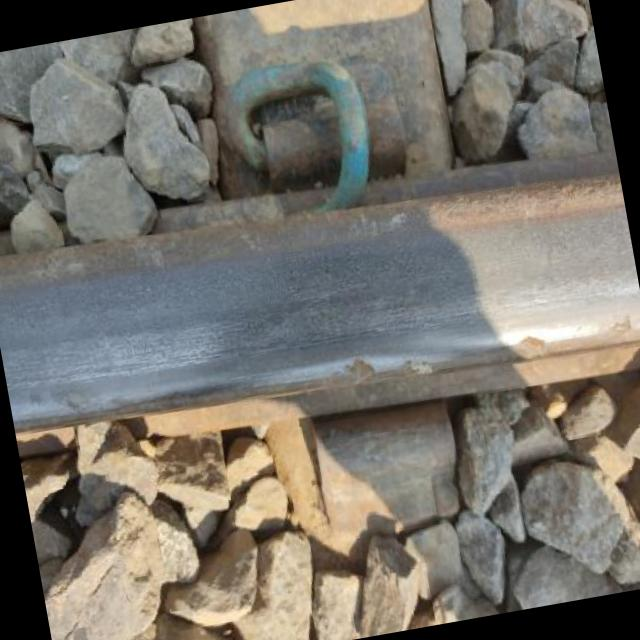defective: (0, 90, 640, 556)
